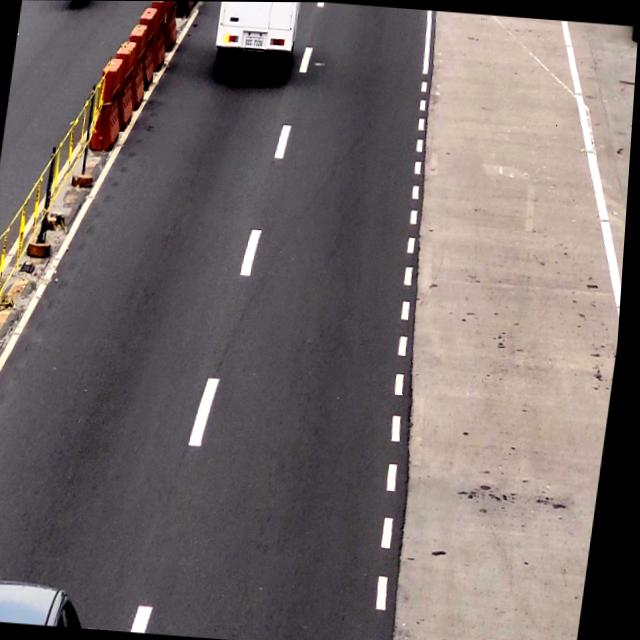Car: (0, 574, 98, 628)
